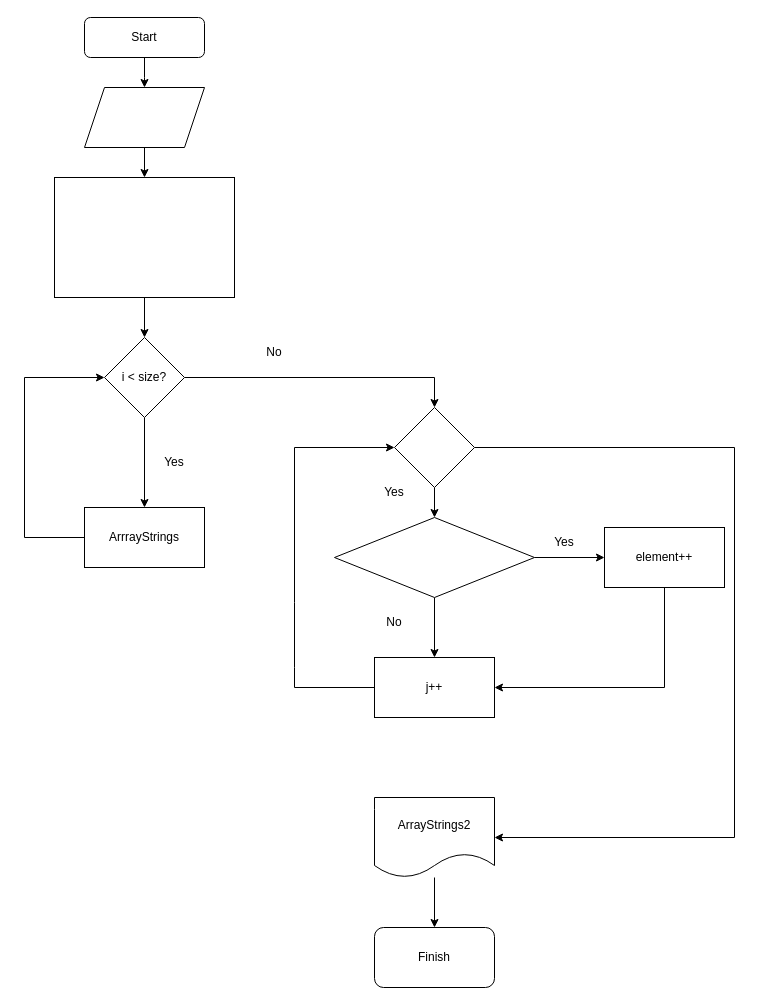
This 760x1005 diagram has some shape labels left out. The box of each missing label's shape, as (x1, y1, x2, y2) in pixels:
ArrayStrings[size]; ArrayStrings2[size]; i=0; j=0; chainlength = 3; element = 0;: (54, 176, 234, 298)
j < size?: (394, 406, 474, 488)
j.length <= chainlength: (334, 516, 534, 598)
size: (84, 86, 204, 148)
